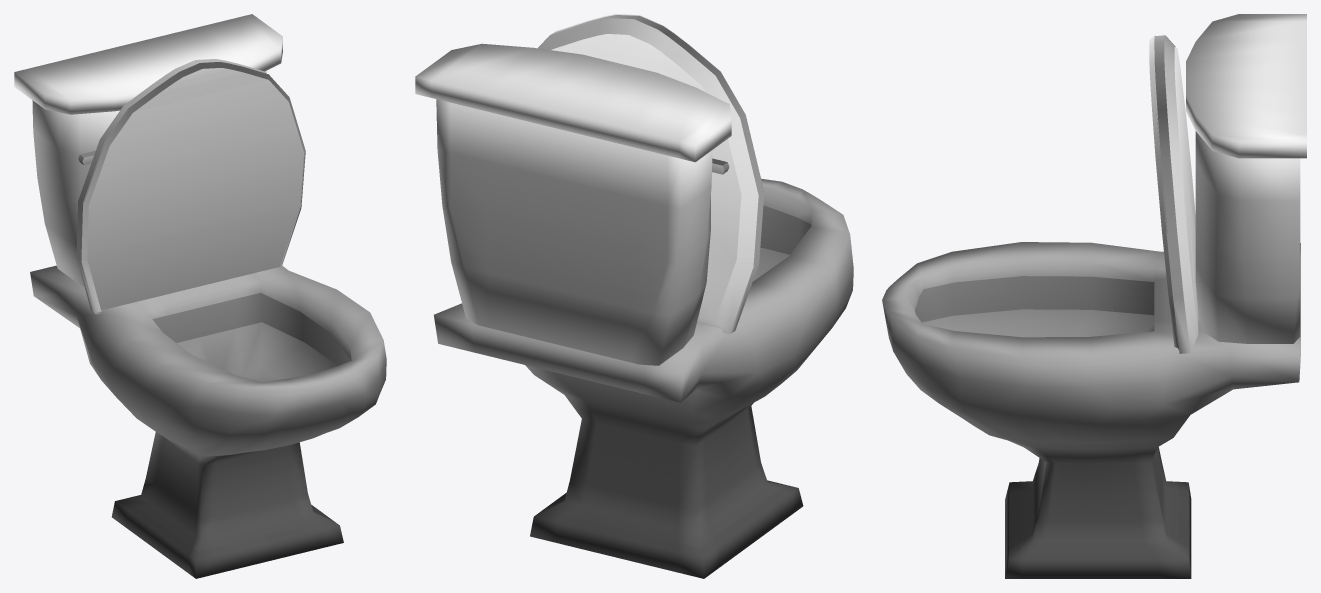
File: Toilet (Open).FBX
3 views of the same model, side by side, from view 1: azimuth 30°, elevation 25°; view 2: azimuth 150°, elevation 25°; view 3: azimuth 270°, elevation 25° (orthographic). The views are drawn at different scales.
Visible parts, largest first — view 1: Toilet; view 2: Toilet; view 3: Toilet.
Part boxes in pixels (x1,y1,x2,y2): Toilet: (14,14,386,578); Toilet: (415,14,853,578); Toilet: (882,14,1306,578).
Size of the model in its own units: 188 by 339 by 263.
1 material, 1 textured.
